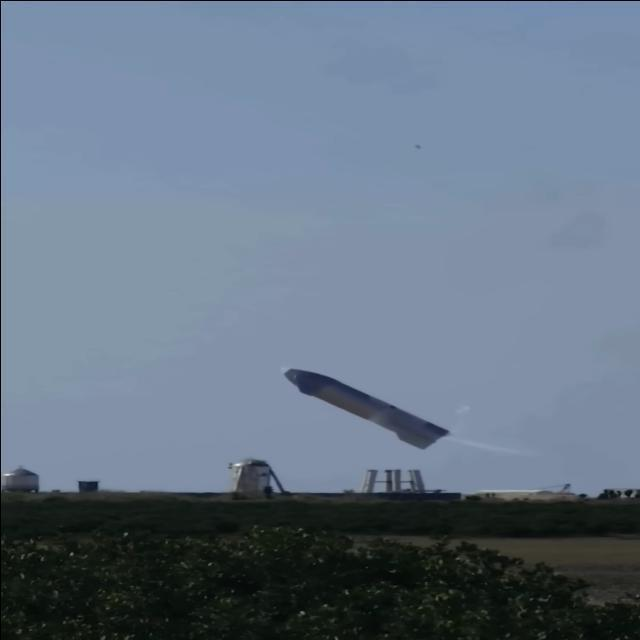missile: (279, 362, 448, 451)
